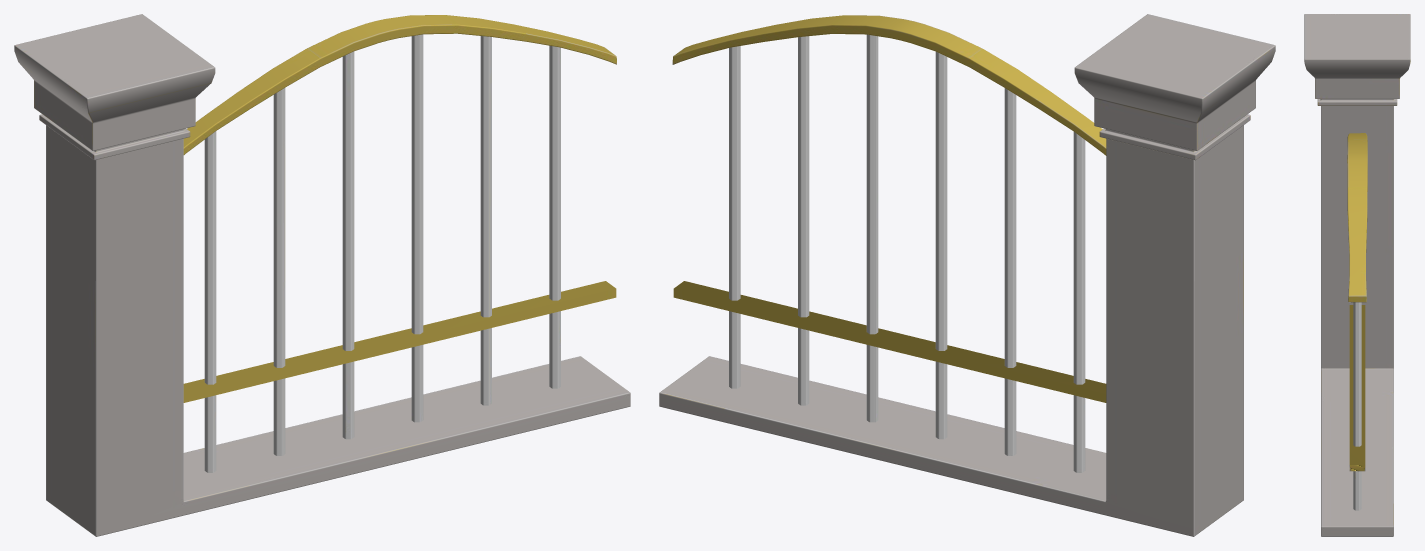
The model's file is BUILDING_Fence_1.fbx.
3 renders of one model, left to right at view 1: azimuth 30°, elevation 25°; view 2: azimuth 150°, elevation 25°; view 3: azimuth 270°, elevation 25°, orthographic. The views are drawn at different scales.
Parts seen in each view (by area): view 1: BUILDING_Fence_1_Baked; view 2: BUILDING_Fence_1_Baked; view 3: BUILDING_Fence_1_Baked.
Boxes of the visible parts, left/top/right/bottom form: BUILDING_Fence_1_Baked: left=14, top=14, right=630, bottom=536; BUILDING_Fence_1_Baked: left=659, top=14, right=1275, bottom=536; BUILDING_Fence_1_Baked: left=1304, top=14, right=1410, bottom=536.
Bounding box in the file's own units: 89.98 × 69.35 × 20.39.
1 material, 1 textured.
